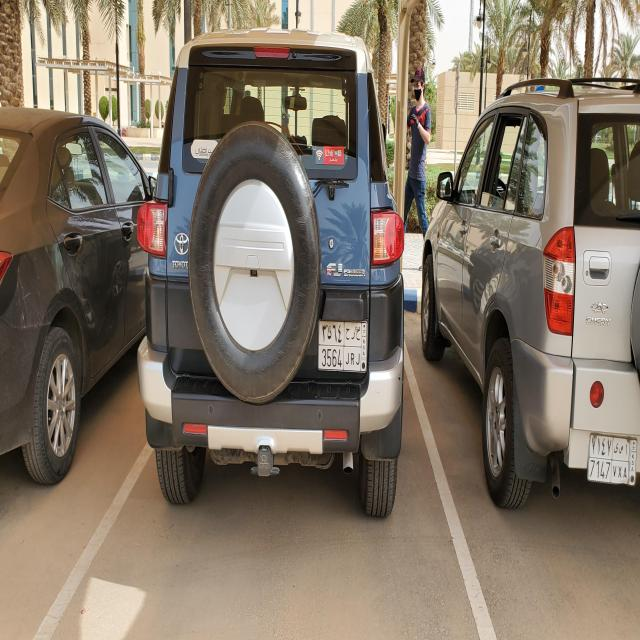license_plate: (586, 432, 637, 488), (318, 318, 366, 373)
